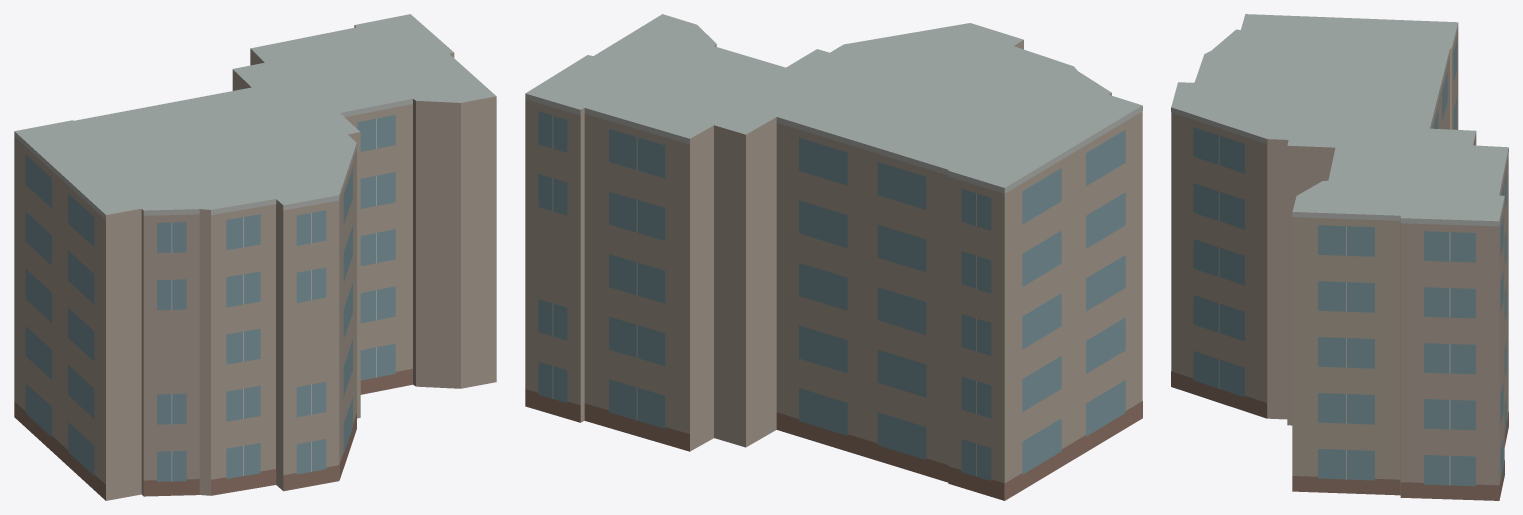
The model's file is survey-upis-33011738.glb.
3 renders of one model, left to right at view 1: azimuth 30°, elevation 25°; view 2: azimuth 150°, elevation 25°; view 3: azimuth 270°, elevation 25°, orthographic. The views are drawn at different scales.
Parts seen in each view (by area): view 1: survey-upis-33011738.tmp; view 2: survey-upis-33011738.tmp; view 3: survey-upis-33011738.tmp.
Part boxes in pixels (x1,y1,x2,y2): survey-upis-33011738.tmp: (14,14,496,500); survey-upis-33011738.tmp: (525,14,1142,500); survey-upis-33011738.tmp: (1171,14,1508,500).
Bounding box in the file's own units: 21.16 × 13.3 × 14.57.
